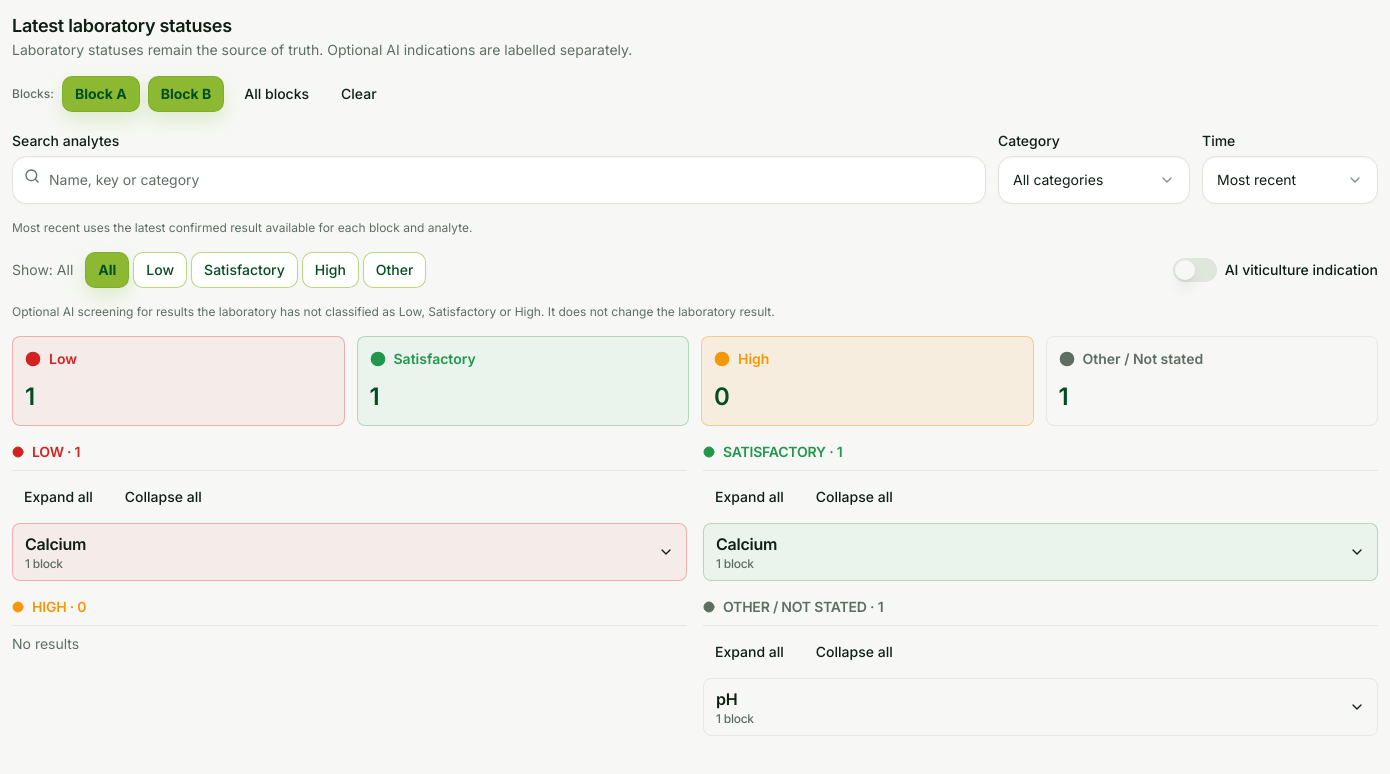
Test case: Traffic Lights presentation › keeps replicate raw entries and exact lab statuses, date/depth and released sample links
Click the 1st button "Calcium 1 block" at coordinates (56, 544), box [13,524,686,580]
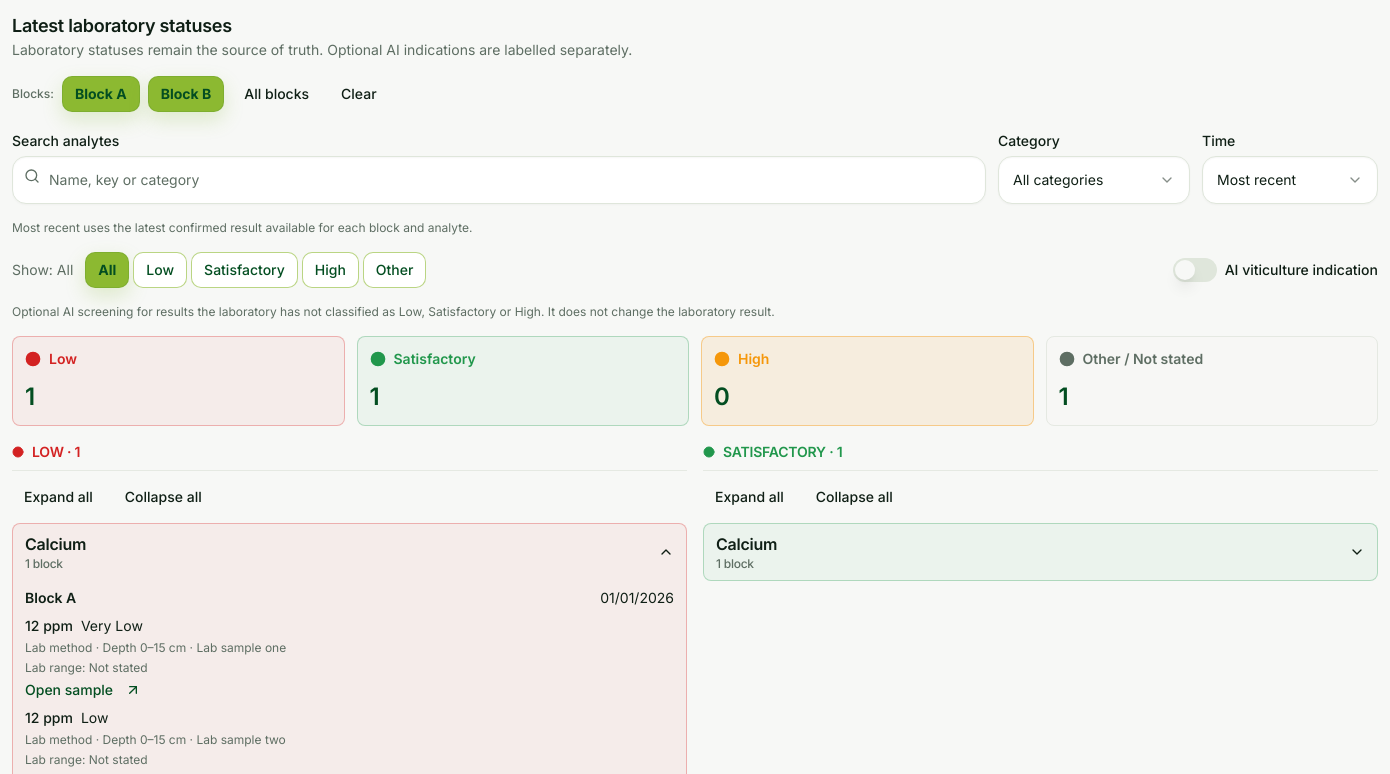
Expected: the text "Very Low" is shown, [81,616,143,636]
Expected: the text "Low" is shown, [81,708,108,728]
Expected: the text "Lab method · Depth 0–15 cm · Lab sample one" is shown 2 times, [25,640,286,655]; [25,732,286,747]
